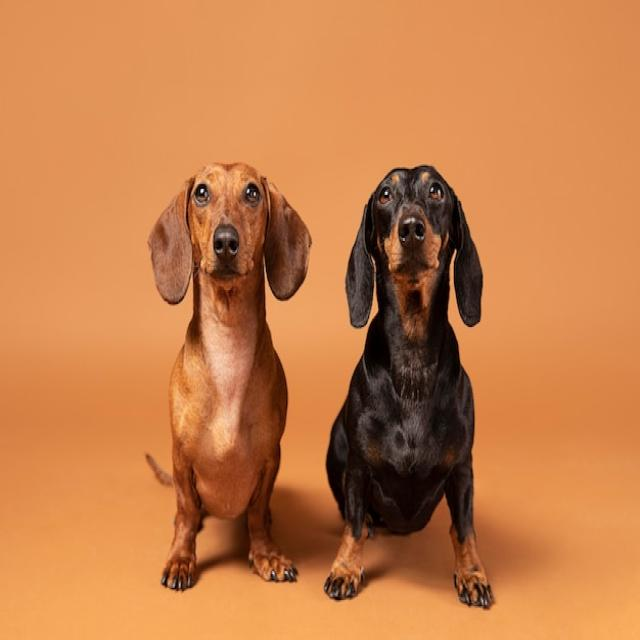Dog: (324, 163, 494, 610), (143, 159, 313, 591)
